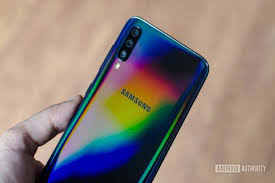samsung: (38, 17, 214, 183)
